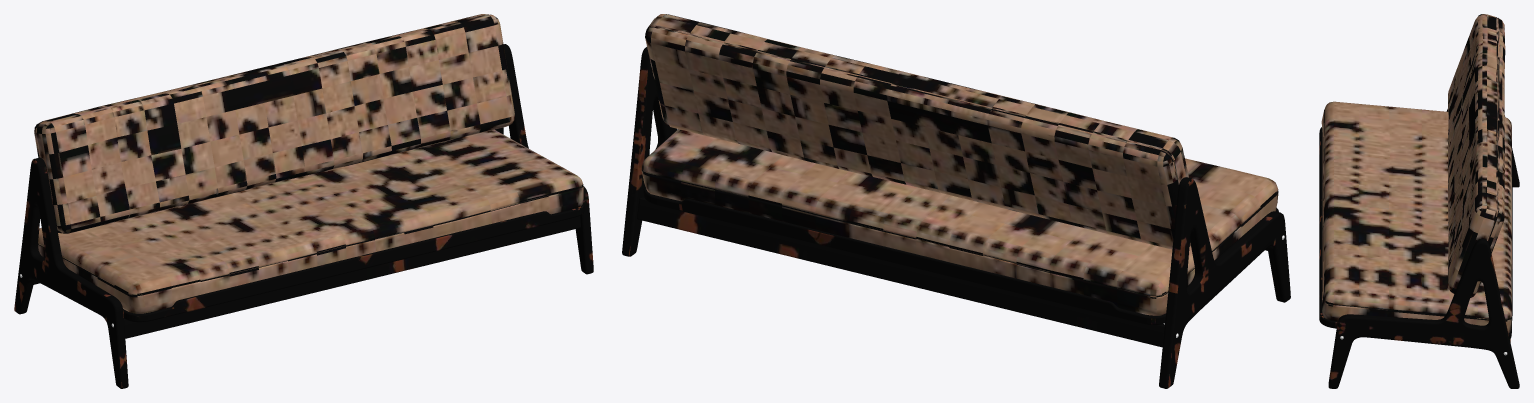
The model's file is sofa_teak.glb.
The picture shows the model from 3 angles, left to right: view 1: azimuth 30°, elevation 25°; view 2: azimuth 150°, elevation 25°; view 3: azimuth 270°, elevation 25°; orthographic projection. The views are drawn at different scales.
Visible parts, largest first — view 1: SofaAWS_BackCushion, SofaAWS_SeatCushion, Plane.006, Plane.009, Plane.004, Plane.008; view 2: SofaAWS_BackCushion, SofaAWS_SeatCushion, Plane.004, Plane.006, Plane.009, Plane.008; view 3: SofaAWS_SeatCushion, SofaAWS_BackCushion, Plane.008, Plane.009, Plane.006.
Part boxes in pixels (box(x1,y1,x2,y2)): SofaAWS_BackCushion: box(34, 14, 514, 233); SofaAWS_SeatCushion: box(38, 129, 583, 313); Plane.006: box(14, 157, 128, 388); Plane.009: box(123, 203, 584, 322); Plane.004: box(33, 216, 580, 338); Plane.008: box(495, 44, 593, 274); SofaAWS_BackCushion: box(645, 14, 1190, 249); SofaAWS_SeatCushion: box(641, 129, 1278, 315); Plane.004: box(637, 197, 1267, 347); Plane.006: box(1159, 177, 1290, 388); Plane.009: box(643, 186, 1278, 324); Plane.008: box(622, 47, 677, 256); SofaAWS_SeatCushion: box(1321, 101, 1511, 333); SofaAWS_BackCushion: box(1448, 14, 1505, 297); Plane.008: box(1328, 238, 1519, 388); Plane.009: box(1319, 127, 1512, 339); Plane.006: box(1446, 109, 1519, 187).
Size of the model in its own units: 1.96 by 0.7838 by 0.8022.
Materials: 3 (2 with a texture image).
